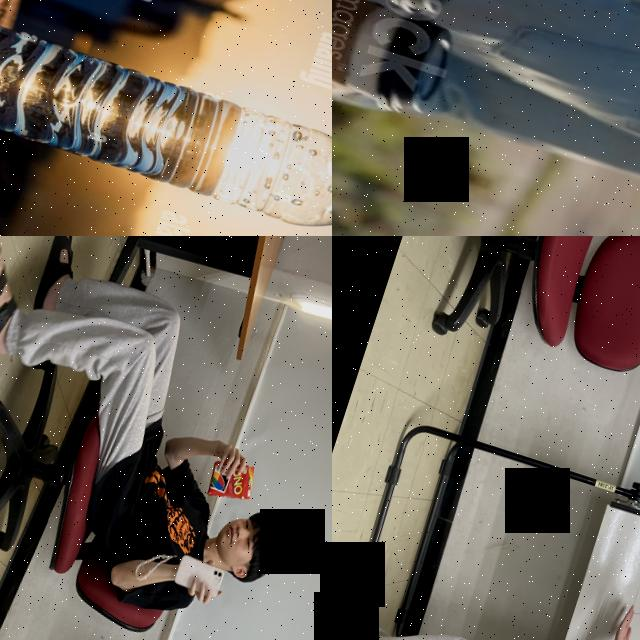bottle: (0, 13, 332, 236)
cup: (332, 0, 462, 124)
